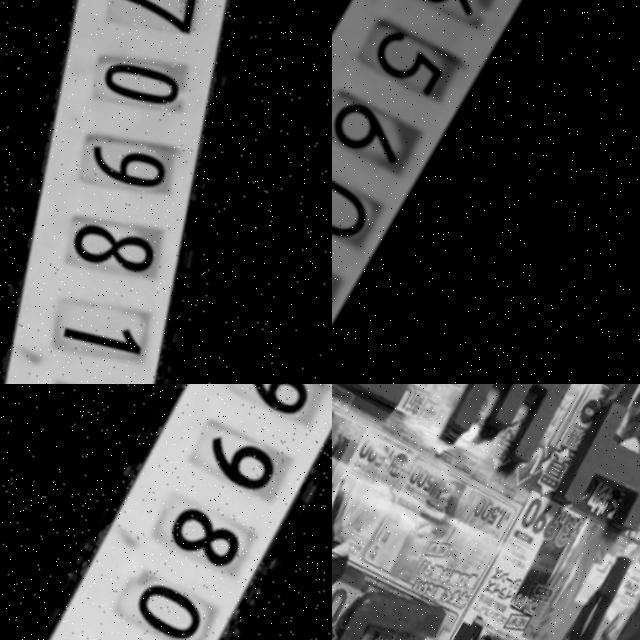0: (83, 17, 208, 136), (108, 544, 235, 640), (332, 155, 384, 250)
1: (40, 261, 173, 384)
5: (365, 12, 461, 99)
6: (332, 79, 423, 176), (404, 0, 499, 26)
7: (92, 0, 222, 61), (26, 343, 161, 384)
8: (48, 175, 186, 309), (145, 471, 272, 593)
9: (179, 393, 309, 518), (69, 99, 195, 220), (222, 384, 332, 437)
E: (439, 384, 588, 477)
I: (557, 384, 640, 534)
U: (332, 561, 455, 640)
